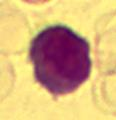lymphocyte: (25, 22, 93, 95)
